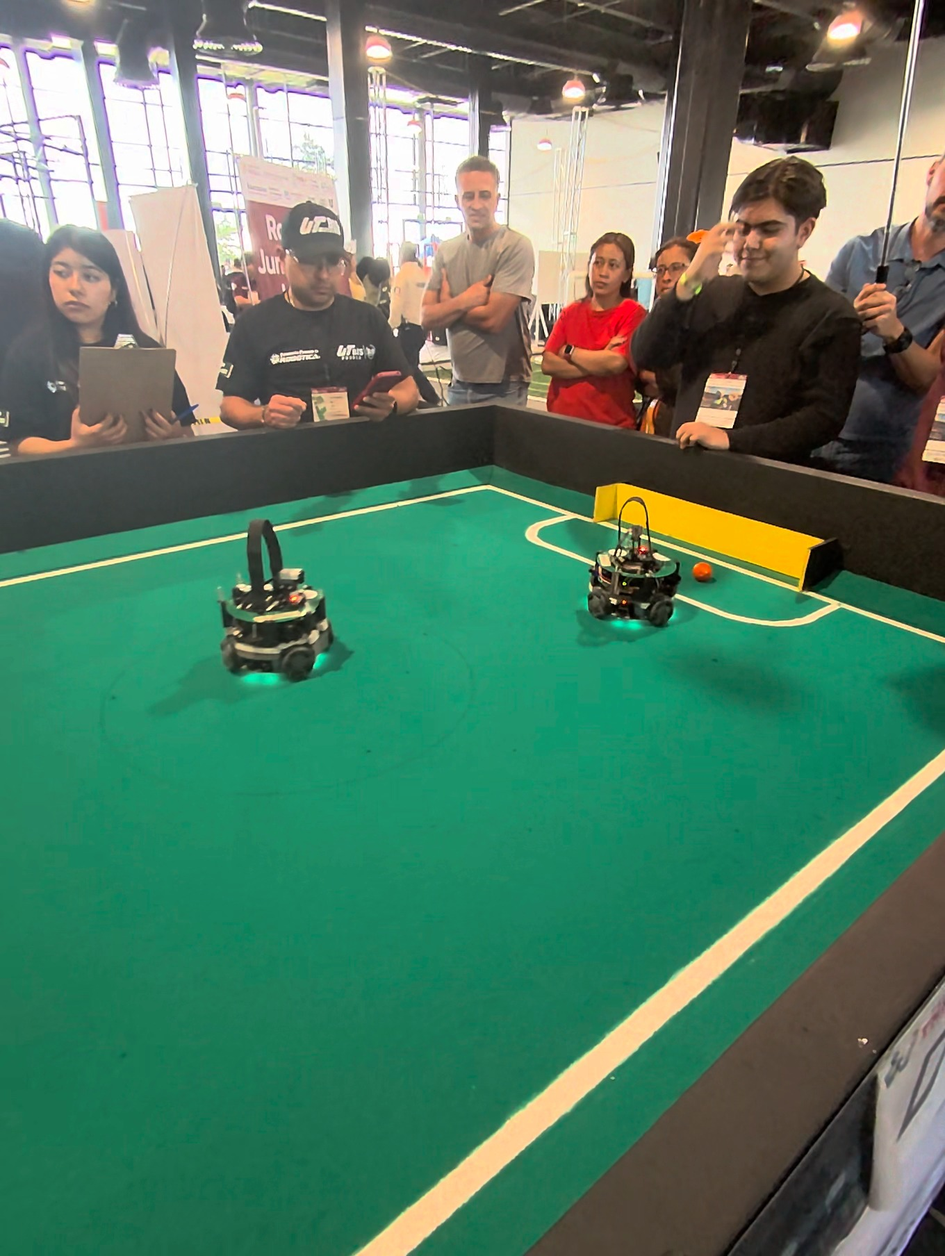Robot: (206, 511, 336, 693), (586, 485, 683, 638)
pelota: (693, 561, 712, 582)
